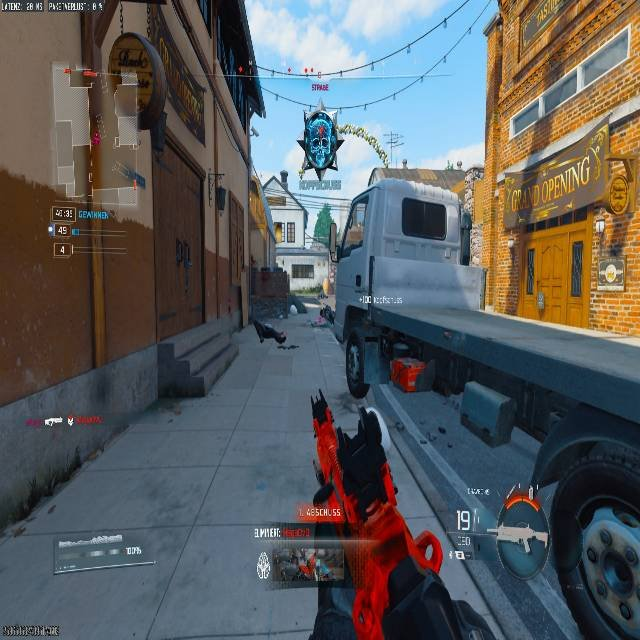player: (319, 304, 335, 323)
